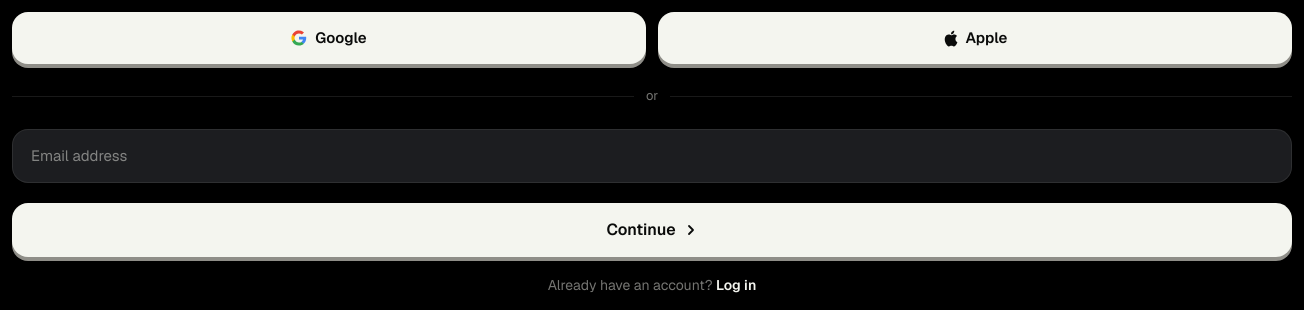
Test: OnboardingAuthTray pending state › disables the whole tray so a second handoff cannot start
The width and height of the screenshot is (1304, 310).
Click the button with aria-label "Continue with Apple". click: [975, 38]
box: [658,12,1292,64]
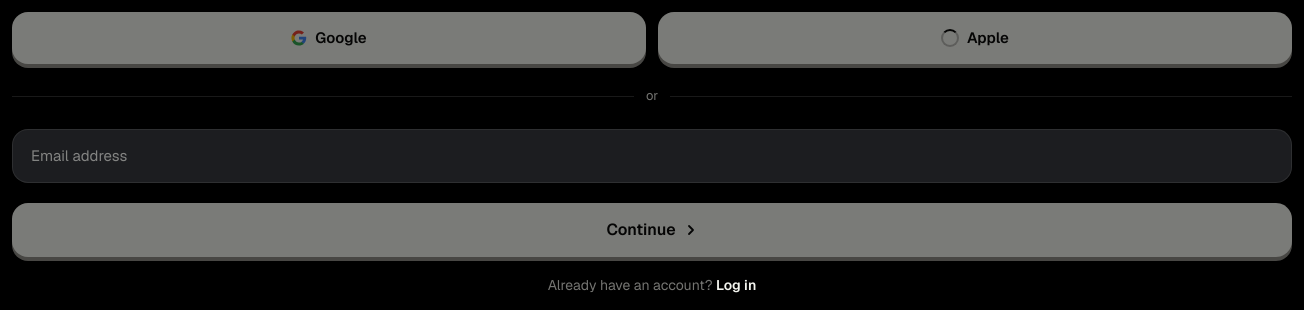
Expected: the button with aria-label "Continue with Apple" is disabled, [658,12,1292,64]
Expected: the button with aria-label "Continue with Google" is disabled, [12,12,646,64]
Expected: the button "Continue" is disabled, [12,203,1292,257]
